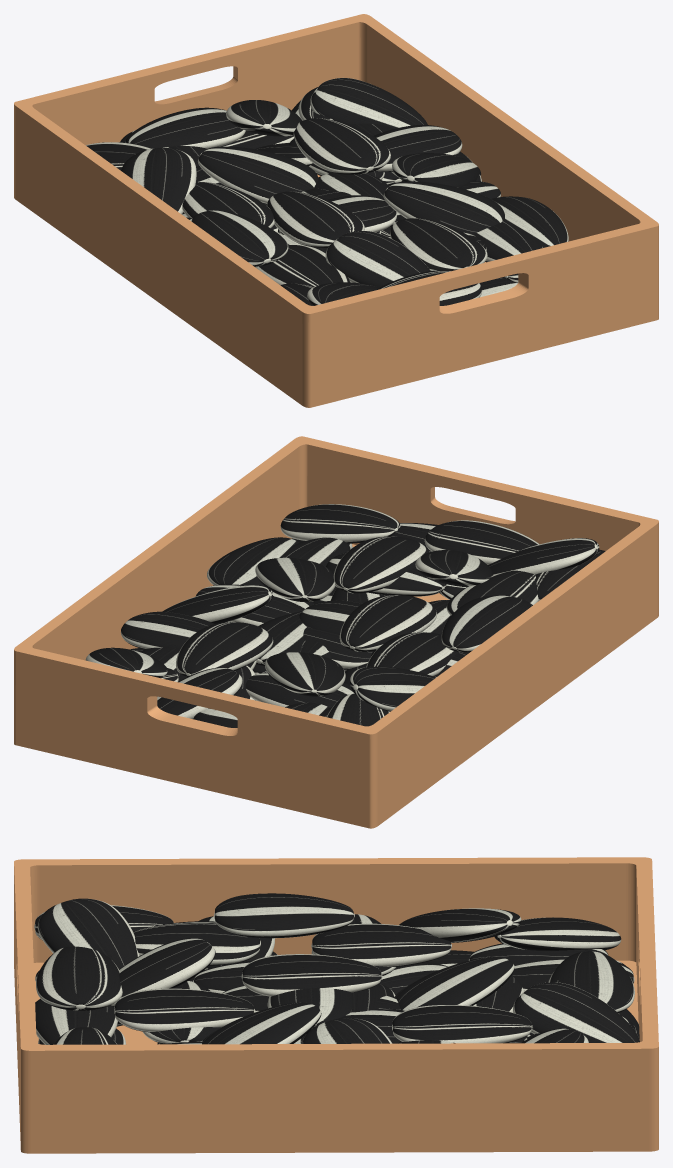
Rendered from feedingBox_Half.fbx.
3 views of the same model, one above another, from view 1: azimuth 30°, elevation 25°; view 2: azimuth 150°, elevation 25°; view 3: azimuth 270°, elevation 25° (orthographic). The views are drawn at different scales.
Visible parts, largest first — view 1: Box_Material_0; view 2: Box_Material_0; view 3: Box_Material_0.
Boxes of the visible parts, box(x1,y1,x2,y2) form: Box_Material_0: box(14, 14, 658, 407); Box_Material_0: box(14, 436, 658, 828); Box_Material_0: box(14, 857, 658, 1153).
Size of the model in its own units: 156 by 38.59 by 219.
Materials: 79 (78 with a texture image).
